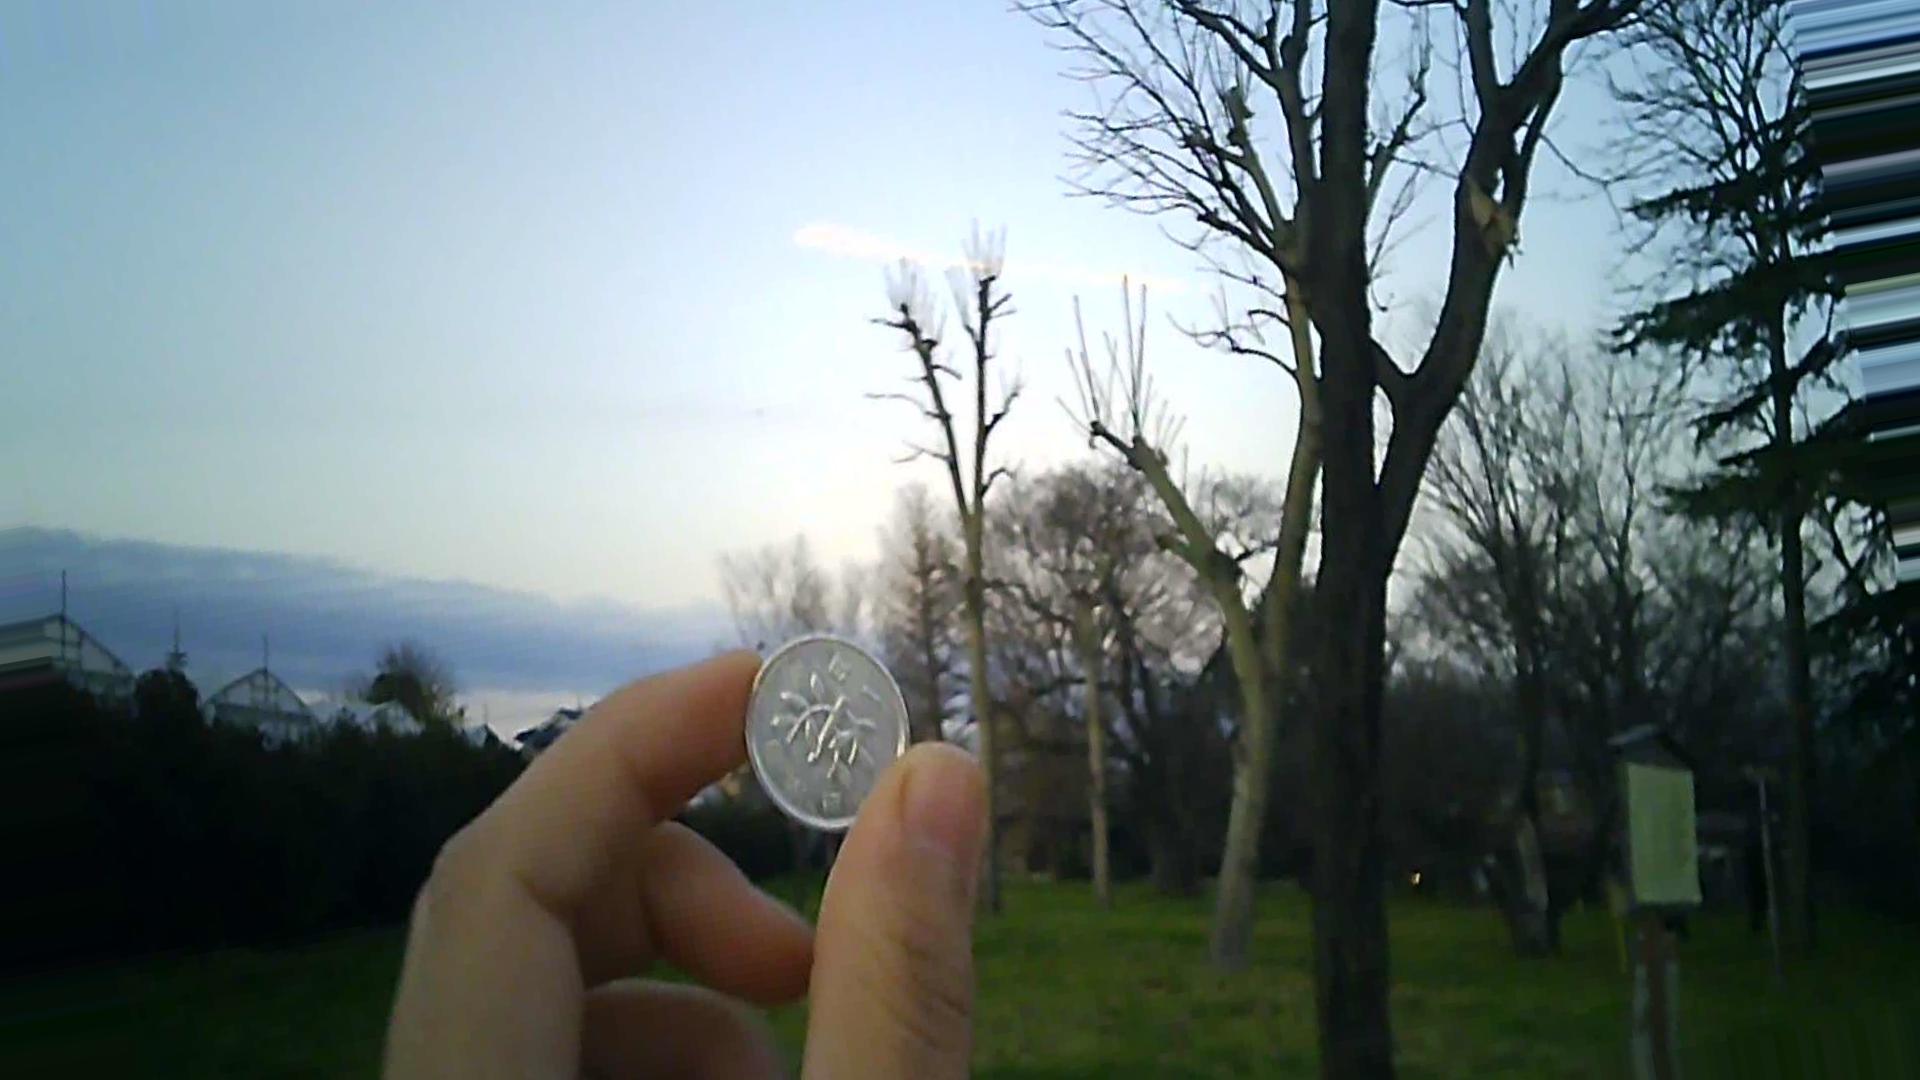1 Yen: (737, 630, 918, 833)
